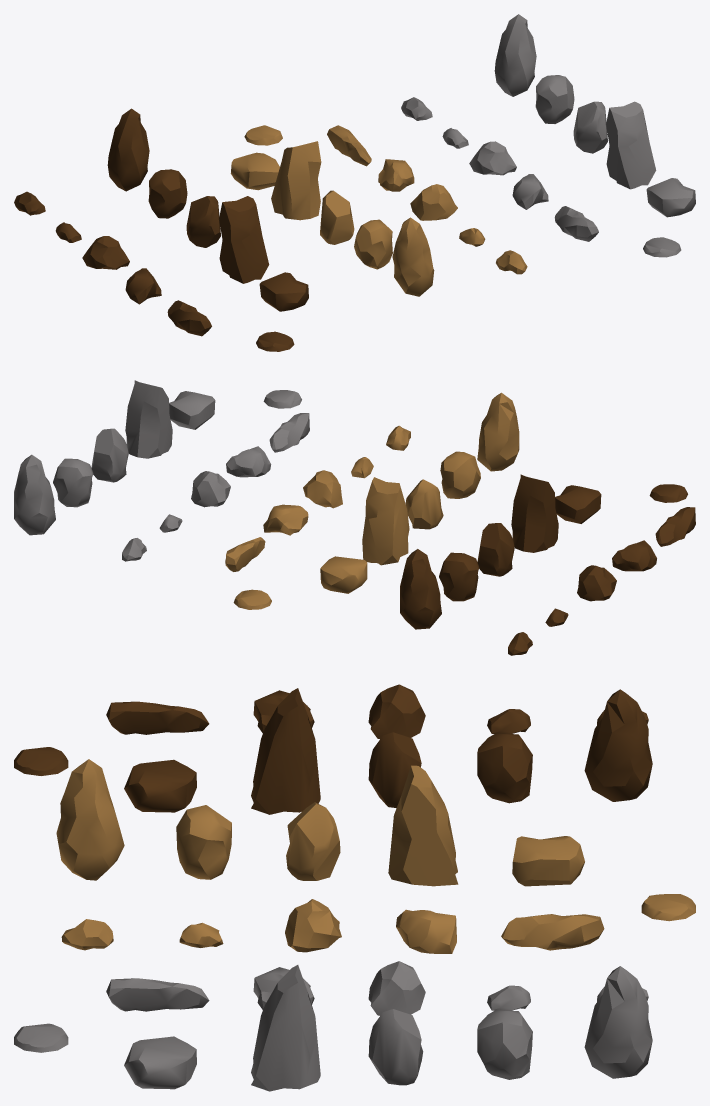
File: simple_low_poly_rocks.glb
The picture shows the model from 3 angles, top to bottom: view 1: azimuth 30°, elevation 25°; view 2: azimuth 150°, elevation 25°; view 3: azimuth 270°, elevation 25°; orthographic projection. The views are drawn at different scales.
Parts seen in each view (by area): view 1: low_poly_rock_9, low_poly_rock_9.002, low_poly_rock_9.001, low_poly_rock_1, low_poly_rock_1.002, low_poly_rock_1.001, low_poly_rock_2.002, low_poly_rock_2, low_poly_rock_2.001, low_poly_rock_8.002, low_poly_rock_8, low_poly_rock_8.001 (+16 smaller); view 2: low_poly_rock_9.001, low_poly_rock_9.002, low_poly_rock_9, low_poly_rock_1, low_poly_rock_1.002, low_poly_rock_1.001, low_poly_rock_8, low_poly_rock_8.002, low_poly_rock_2.002, low_poly_rock_2, low_poly_rock_2.001, low_poly_rock_10.001 (+16 smaller); view 3: low_poly_rock_9, low_poly_rock_9.002, low_poly_rock_9.001, low_poly_rock_1.001, low_poly_rock_1, low_poly_rock_1.002, low_poly_rock_2.001, low_poly_rock_8.001, low_poly_rock_8, low_poly_rock_2, low_poly_rock_2.002, low_poly_rock_10.001 (+19 smaller).
Boxes of the visible parts, x1,y1,x2,y2 form: low_poly_rock_9: (606,101,656,189); low_poly_rock_9.002: (219,196,269,283); low_poly_rock_9.001: (271,141,321,220); low_poly_rock_1: (494,14,536,96); low_poly_rock_1.002: (107,108,149,191); low_poly_rock_1.001: (392,217,434,296); low_poly_rock_2.002: (148,169,187,218); low_poly_rock_2: (535,75,574,123); low_poly_rock_2.001: (354,219,392,269); low_poly_rock_8.002: (186,196,220,247); low_poly_rock_8: (573,101,607,153); low_poly_rock_8.001: (320,190,354,244); low_poly_rock_9.001: (362,477,409,565); low_poly_rock_9.002: (511,474,558,552); low_poly_rock_9: (125,380,172,458); low_poly_rock_1: (14,454,55,535); low_poly_rock_1.002: (400,549,441,629); low_poly_rock_1.001: (477,392,519,471); low_poly_rock_8: (91,428,128,482); low_poly_rock_8.002: (477,523,514,576); low_poly_rock_2.002: (439,552,479,601); low_poly_rock_2: (53,458,93,507); low_poly_rock_2.001: (440,451,480,498); low_poly_rock_10.001: (320,556,367,593); low_poly_rock_9: (251,965,320,1091); low_poly_rock_9.002: (251,688,320,814); low_poly_rock_9.001: (388,765,458,886); low_poly_rock_1.001: (56,759,124,880); low_poly_rock_1: (584,966,652,1078); low_poly_rock_1.002: (584,689,652,801); low_poly_rock_2.001: (176,805,231,879); low_poly_rock_8.001: (286,802,340,880); low_poly_rock_8: (368,1009,423,1085); low_poly_rock_2: (477,1010,532,1079); low_poly_rock_2.002: (477,733,532,803); low_poly_rock_10.001: (512,836,584,886).
Bounding box in the file's own units: 8.13 × 1.23 × 6.26.
